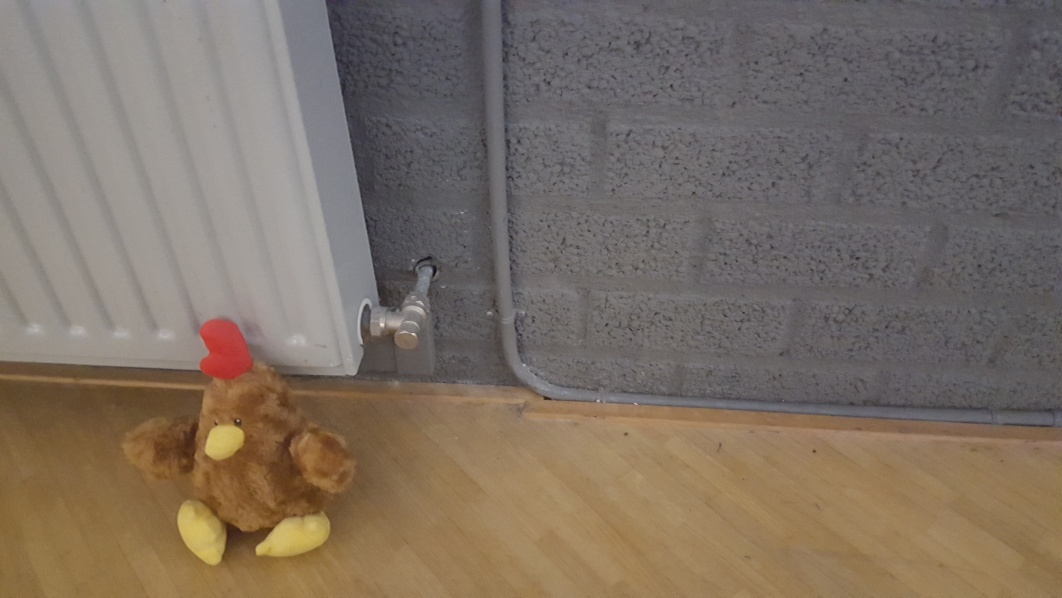chicken: (123, 315, 354, 567)
